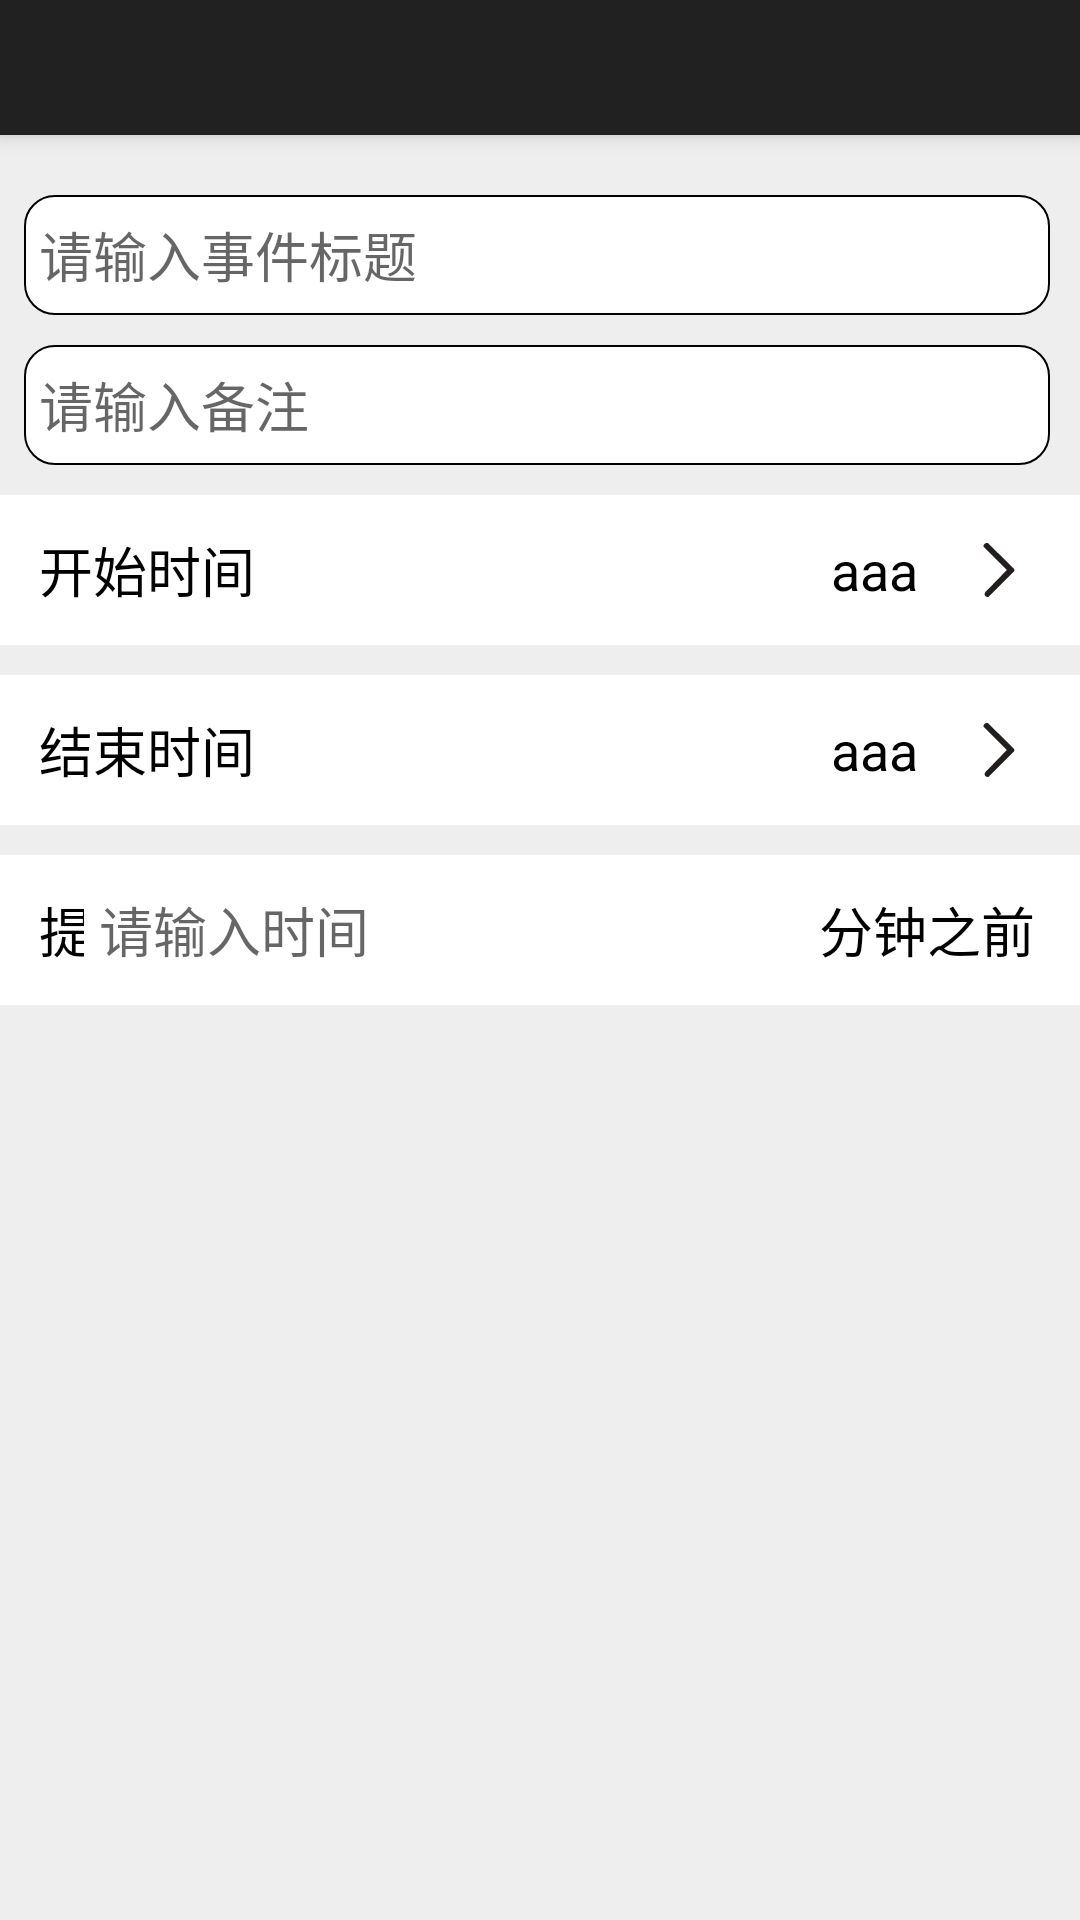

Icon click points for this 1080×1920 phone screenshot, format [x,y]:
bigthan: [999,570], [999,750]
